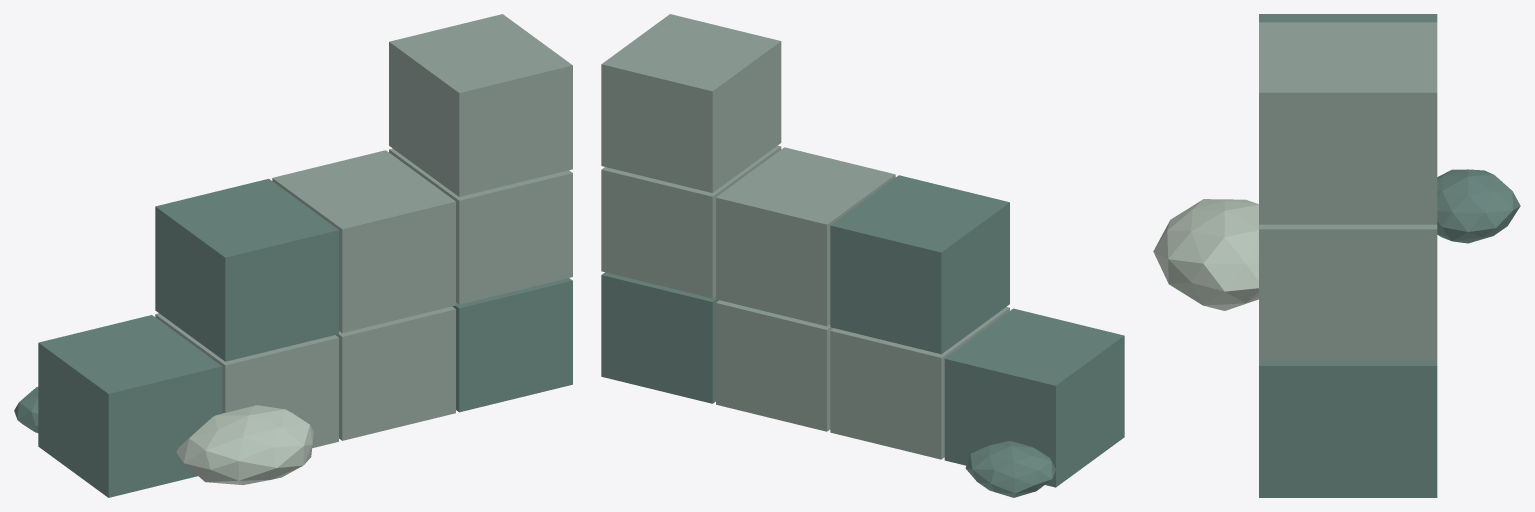
File: wall-broken-mossy.glb
3 renders of one model, left to right at view 1: azimuth 30°, elevation 25°; view 2: azimuth 150°, elevation 25°; view 3: azimuth 270°, elevation 25°, orthographic. The views are drawn at different scales.
Parts seen in each view (by area): view 1: wall-broken-kit-mossy-stone, wall-broken-kit-mossy-shade, wall-broken-kit-mossy-light; view 2: wall-broken-kit-mossy-stone, wall-broken-kit-mossy-shade; view 3: wall-broken-kit-mossy-stone, wall-broken-kit-mossy-shade, wall-broken-kit-mossy-light.
Boxes of the visible parts, box(x1,y1,x2,y2) form: wall-broken-kit-mossy-stone: box(155, 14, 572, 447); wall-broken-kit-mossy-shade: box(14, 178, 572, 497); wall-broken-kit-mossy-light: box(176, 405, 313, 484); wall-broken-kit-mossy-stone: box(601, 14, 1009, 459); wall-broken-kit-mossy-shade: box(601, 175, 1124, 497); wall-broken-kit-mossy-stone: box(1259, 22, 1437, 361); wall-broken-kit-mossy-shade: box(1259, 14, 1520, 497); wall-broken-kit-mossy-light: box(1153, 199, 1258, 310).
Size of the model in its own units: 2.02 by 1.31 by 1.07.
